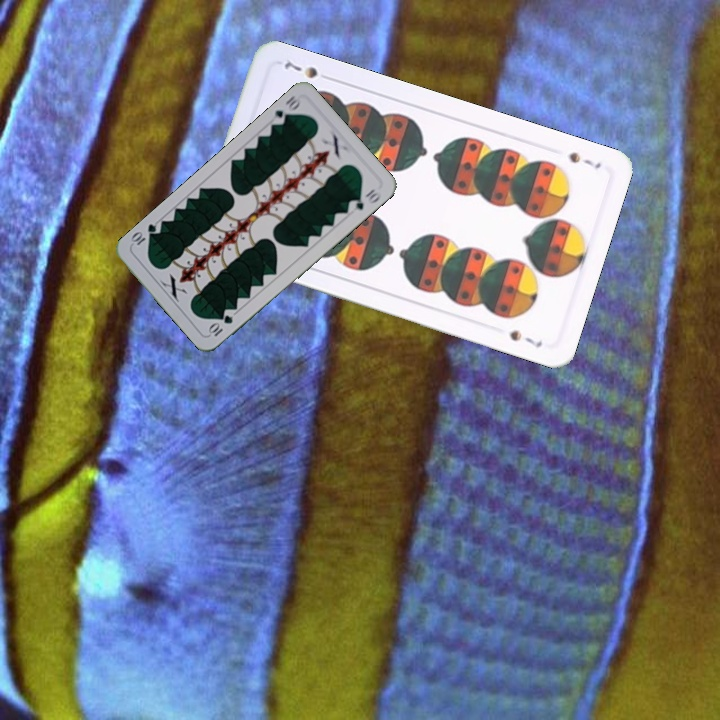G10: (267, 92, 304, 128), (204, 311, 236, 339)
S7: (565, 148, 604, 172)
